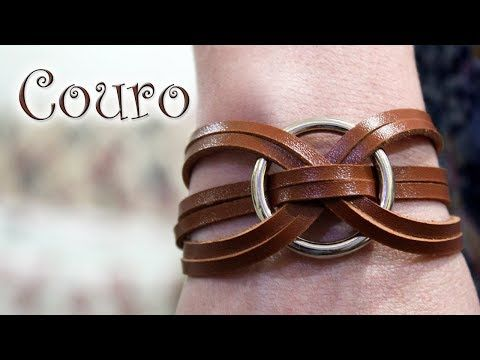cuero: (175, 108, 463, 278)
